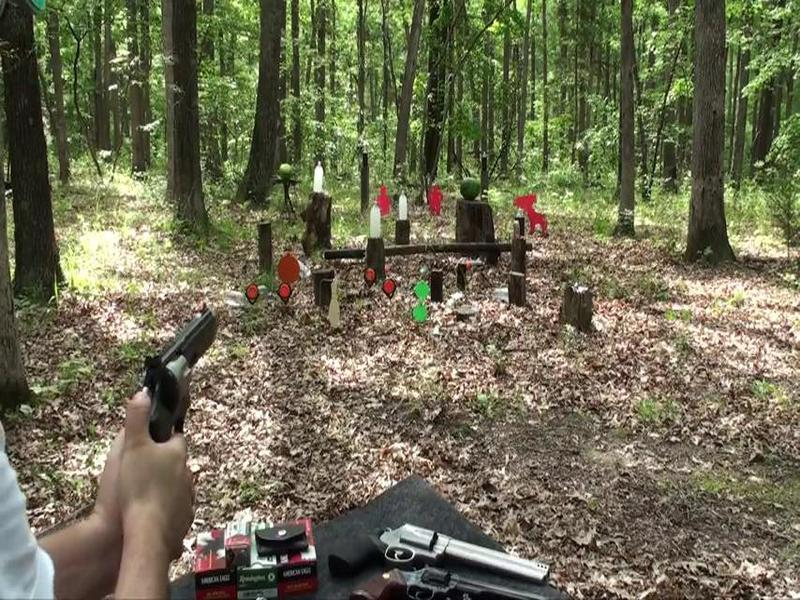Revolver: (118, 293, 231, 470)
